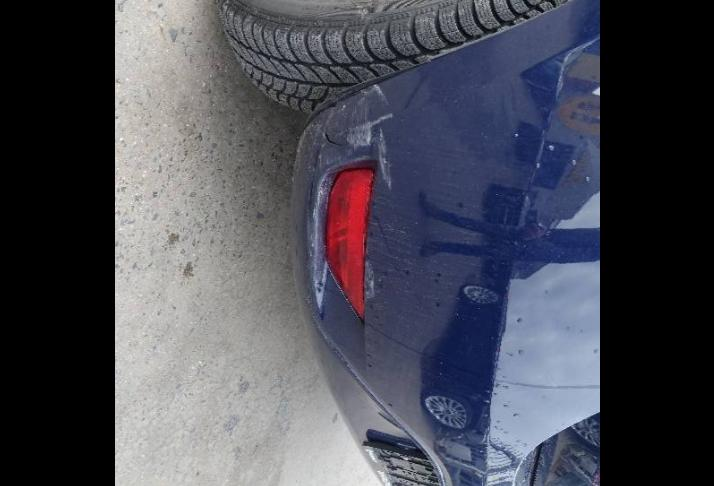Broken part: (286, 59, 437, 250)
Scratch: (555, 36, 599, 101), (346, 114, 391, 146), (316, 145, 350, 168), (363, 255, 377, 307), (378, 130, 390, 189), (361, 85, 387, 104), (349, 97, 364, 124)
